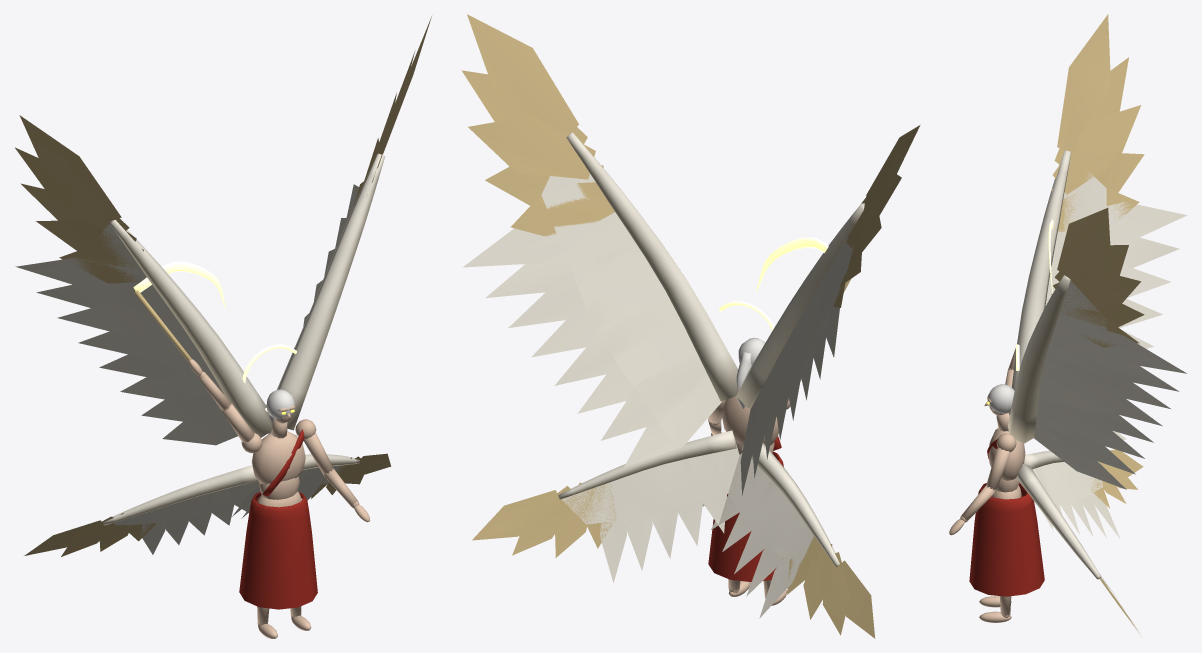
Rendered from samael.glb.
3 views of the same model, side by side, from view 1: azimuth 30°, elevation 25°; view 2: azimuth 150°, elevation 25°; view 3: azimuth 270°, elevation 25° (orthographic). The views are drawn at different scales.
Visible parts, largest first — view 1: torso, pelvis, hand_R, head, upperarm_L, upperarm_R; view 2: torso, pelvis, head, hand_R; view 3: torso, pelvis, upperarm_L, head, forearm_L.
Part boxes in pixels (x1=…): torso: x1=15, y1=16, x2=431, y2=556; pelvis: x1=239, y1=491, x2=317, y2=609; hand_R: x1=133, y1=261, x2=225, y2=375; head: x1=242, y1=344, x2=296, y2=434; upperarm_L: x1=295, y1=419, x2=333, y2=474; upperarm_R: x1=221, y1=404, x2=262, y2=453; torso: x1=461, y1=14, x2=920, y2=638; pelvis: x1=708, y1=451, x2=783, y2=582; head: x1=719, y1=301, x2=774, y2=408; hand_R: x1=755, y1=237, x2=850, y2=294; torso: x1=987, y1=14, x2=1187, y2=636; pelvis: x1=969, y1=483, x2=1044, y2=596; upperarm_L: x1=986, y1=433, x2=1016, y2=492; head: x1=984, y1=344, x2=1019, y2=415; forearm_L: x1=960, y1=485, x2=995, y2=522.
Bounding box in the file's own units: 5.83 × 7.07 × 3.04.
